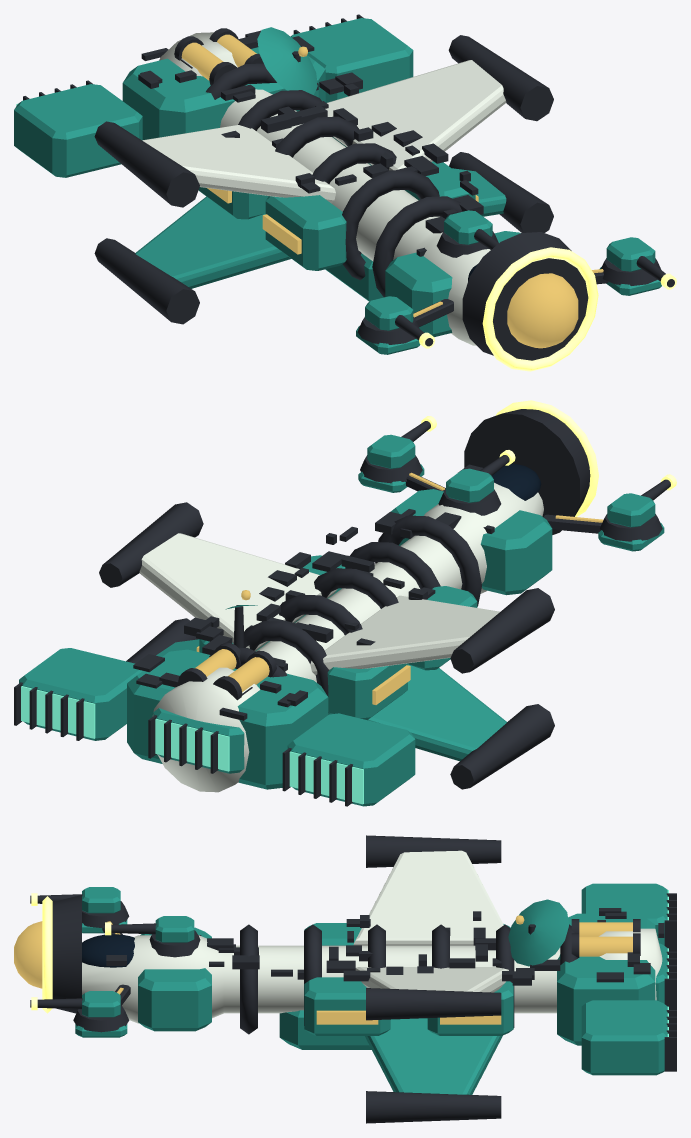
The model's file is ship_pathfinder.glb.
3 views of the same model, one above another, from view 1: azimuth 30°, elevation 25°; view 2: azimuth 150°, elevation 25°; view 3: azimuth 270°, elevation 25° (orthographic). The views are drawn at different scales.
Visible parts, largest first — view 1: secondary, trim, primary, glow, accent; view 2: trim, secondary, primary, engine, glow, accent, glass; view 3: secondary, trim, primary, glow, accent, glass.
Boxes of the visible parts, x1,y1,x2,y2 form: secondary: (14, 18, 661, 354); trim: (23, 14, 674, 360); primary: (142, 32, 506, 345); glow: (181, 34, 603, 348); accent: (419, 247, 676, 371); trim: (14, 409, 670, 806); secondary: (19, 434, 664, 806); primary: (139, 482, 543, 792); engine: (21, 686, 363, 804); glow: (195, 472, 603, 704); accent: (421, 400, 676, 516); glass: (492, 464, 541, 500); secondary: (75, 883, 667, 1094); trim: (30, 835, 676, 1123); primary: (82, 850, 662, 1023); glow: (14, 915, 632, 1024); accent: (31, 893, 111, 1013); glass: (82, 934, 134, 967).
Bounding box in the file's own units: 2.95 × 1.23 × 4.95.
